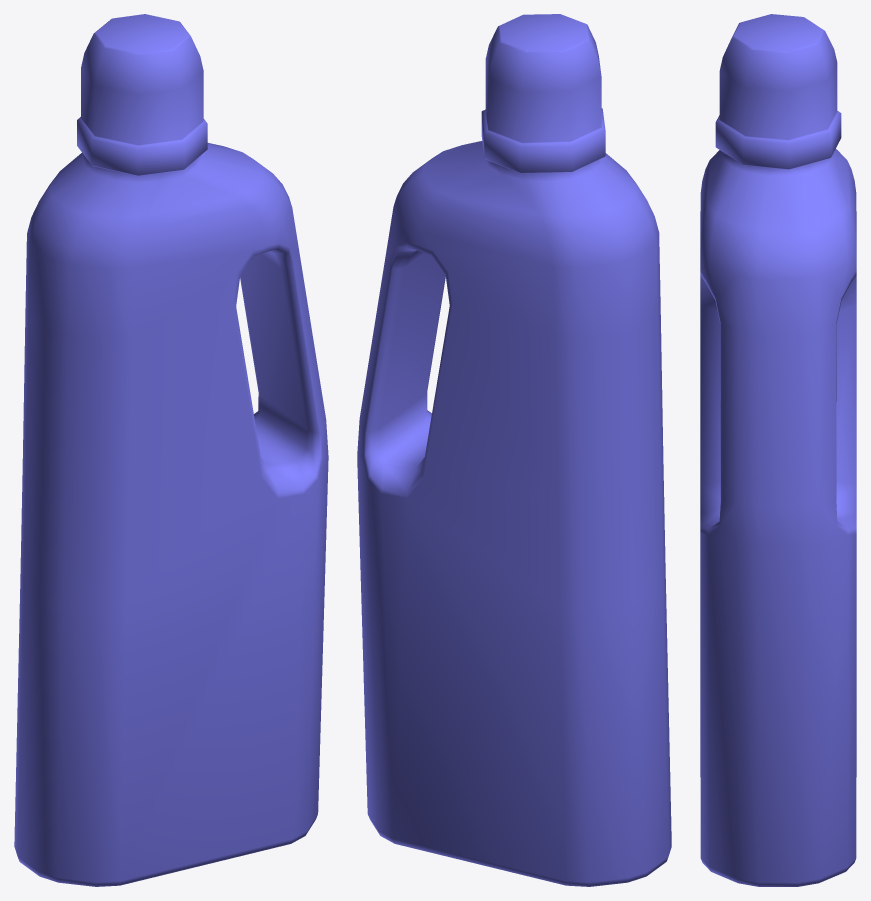
Rendered from SM_DetergentBottle.FBX.
3 views of the same model, side by side, from view 1: azimuth 30°, elevation 25°; view 2: azimuth 150°, elevation 25°; view 3: azimuth 270°, elevation 25° (orthographic). The views are drawn at different scales.
Visible parts, largest first — view 1: SM_DetergentBottle_LOD0; view 2: SM_DetergentBottle_LOD0; view 3: SM_DetergentBottle_LOD0.
Part boxes in pixels (x1,y1,x2,y2): SM_DetergentBottle_LOD0: (14, 14, 328, 886); SM_DetergentBottle_LOD0: (357, 14, 671, 886); SM_DetergentBottle_LOD0: (700, 14, 856, 886).
Size of what is drawn, in the model's own units: 12.3 by 33.15 by 6.02.
